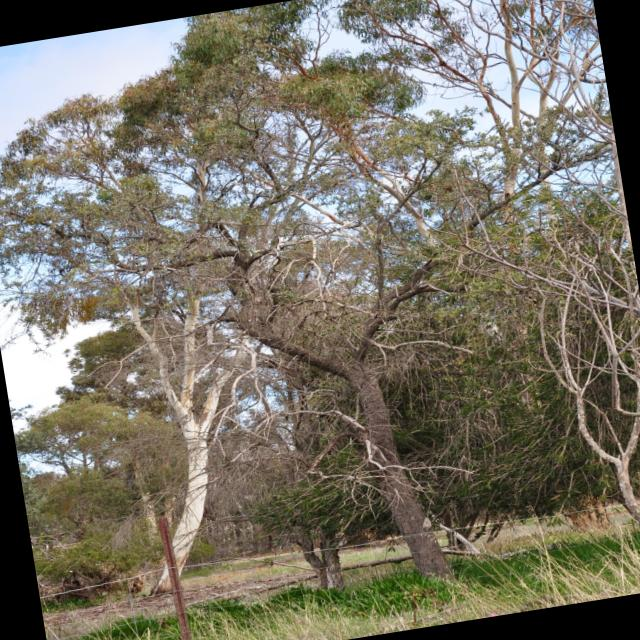Medicinal-Sandalwood: (101, 0, 568, 566), (0, 27, 311, 583), (397, 0, 640, 506)
